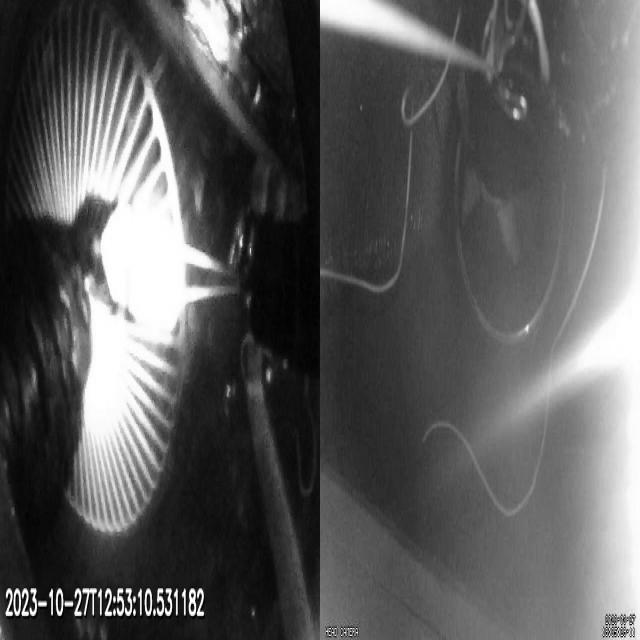head: (101, 201, 181, 331)
